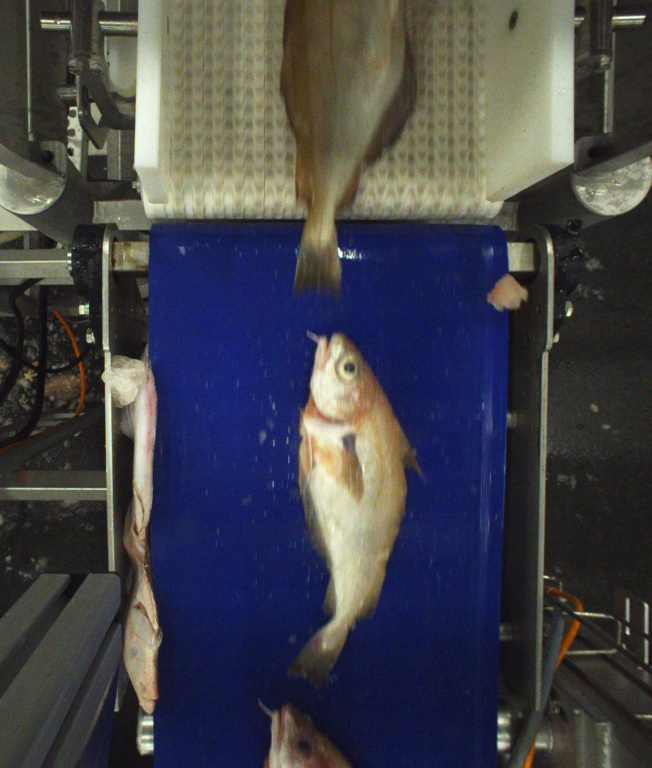BIB: (249, 694, 365, 768)
